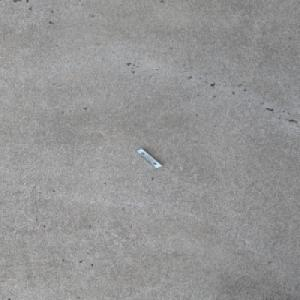ClampPart: (133, 147, 162, 168)
